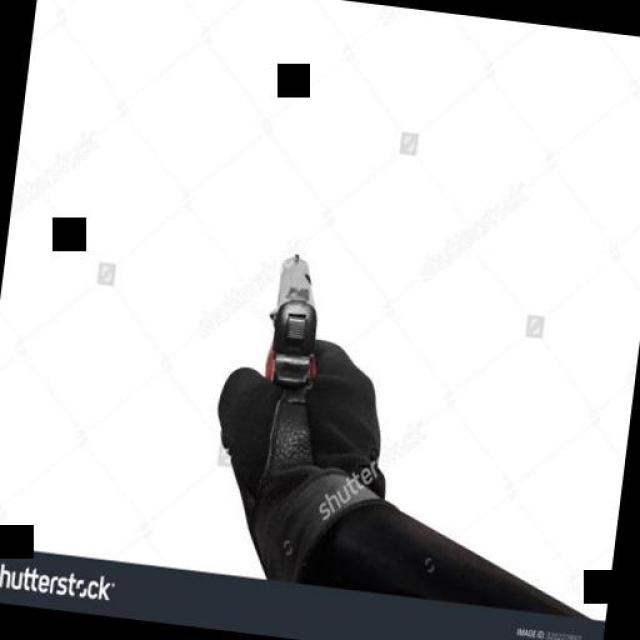gun: (258, 245, 332, 396)
